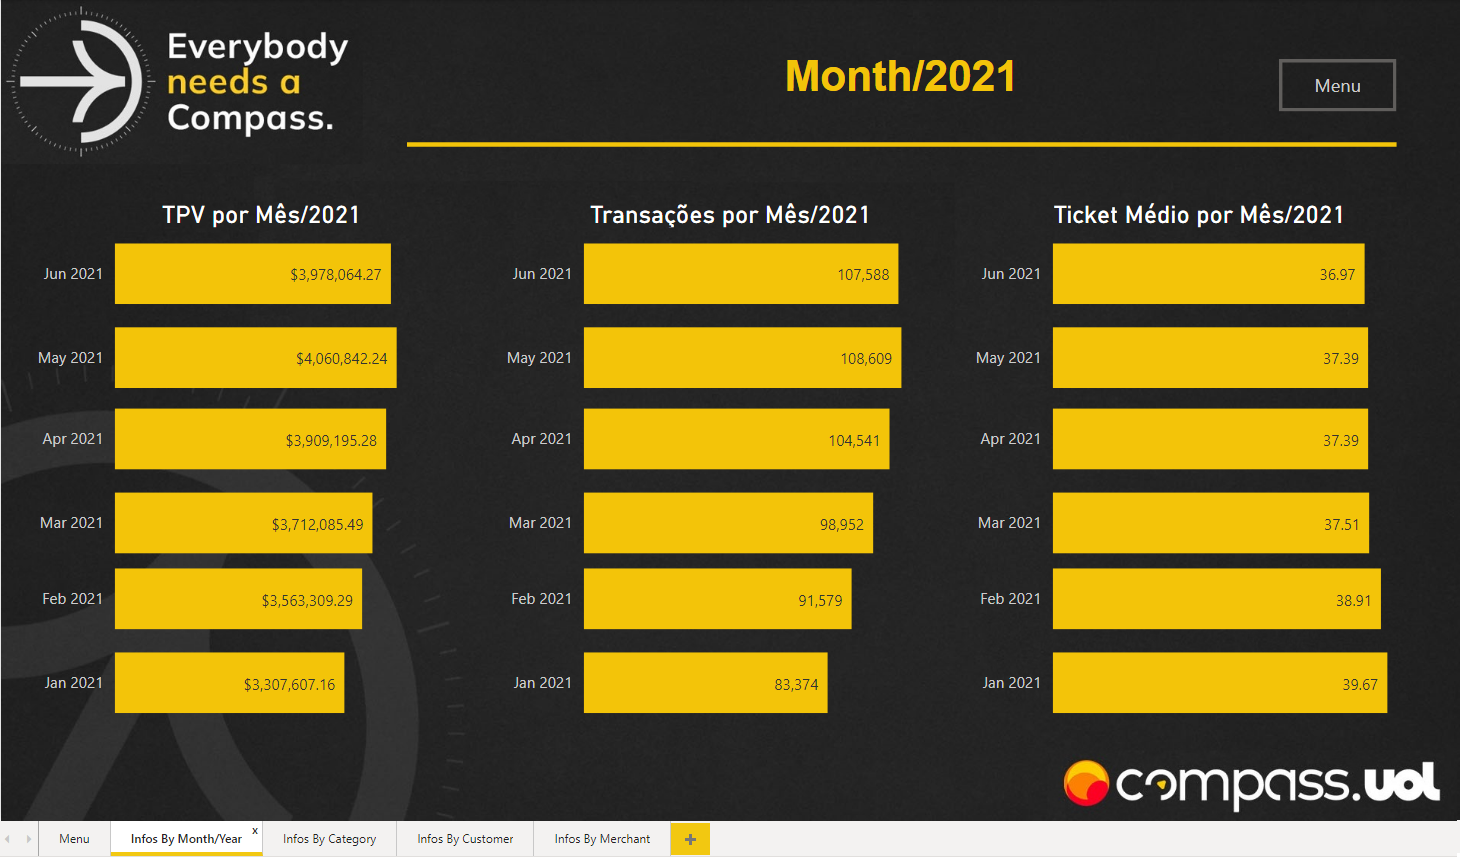

The page's visual inventory and layout, read from the dashboard file:
{"tool":"powerbi","page":{"name":"Infos By Month/Year","canvas":[1280,720],"ordinal":1},"visuals":[{"type":"clusteredBarChart","title":"Ticket Médio por Mês/2021","fields":{"Y":["public fact_merchant_kpi.Ticket Médio M"],"Category":["public fact_merchant_kpi.data"]},"box":[845.7,175.5,411.4,464.5],"z":0},{"type":"shape","box":[356.4,51.9,867.5,150],"z":1000},{"type":"textbox","box":[356.4,41.6,867.5,70.6],"z":2000},{"type":"clusteredBarChart","title":"Transações por Mês/2021","fields":{"Category":["public fact_merchant_kpi.data"],"Y":["Sum(public fact_merchant_kpi.qtd_transacoes)"]},"box":[434.3,175.5,411.4,464.5],"z":3000},{"type":"clusteredBarChart","title":"TPV por Mês/2021","fields":{"Y":["Sum(public fact_merchant_kpi.tpv)"],"Category":["public fact_merchant_kpi.data"]},"box":[22.9,175.5,411.4,464.5],"z":4000},{"type":"actionButton","title":"Menu","box":[1120.9,52.1,103.3,45.7],"z":5000}]}

Visuals, with their boxes on the page's 1280x720 design canvas (x1, y1, x2, y2). These are canvas units, not pixel positions in the 1460x857 screenshot, which may show the page scaled, cropped or inside an application window:
"Ticket Médio por Mês/2021" clusteredBarChart: <region>846, 176, 1257, 640</region>
shape: <region>356, 52, 1224, 202</region>
textbox: <region>356, 42, 1224, 112</region>
"Transações por Mês/2021" clusteredBarChart: <region>434, 176, 846, 640</region>
"TPV por Mês/2021" clusteredBarChart: <region>23, 176, 434, 640</region>
"Menu" actionButton: <region>1121, 52, 1224, 98</region>
